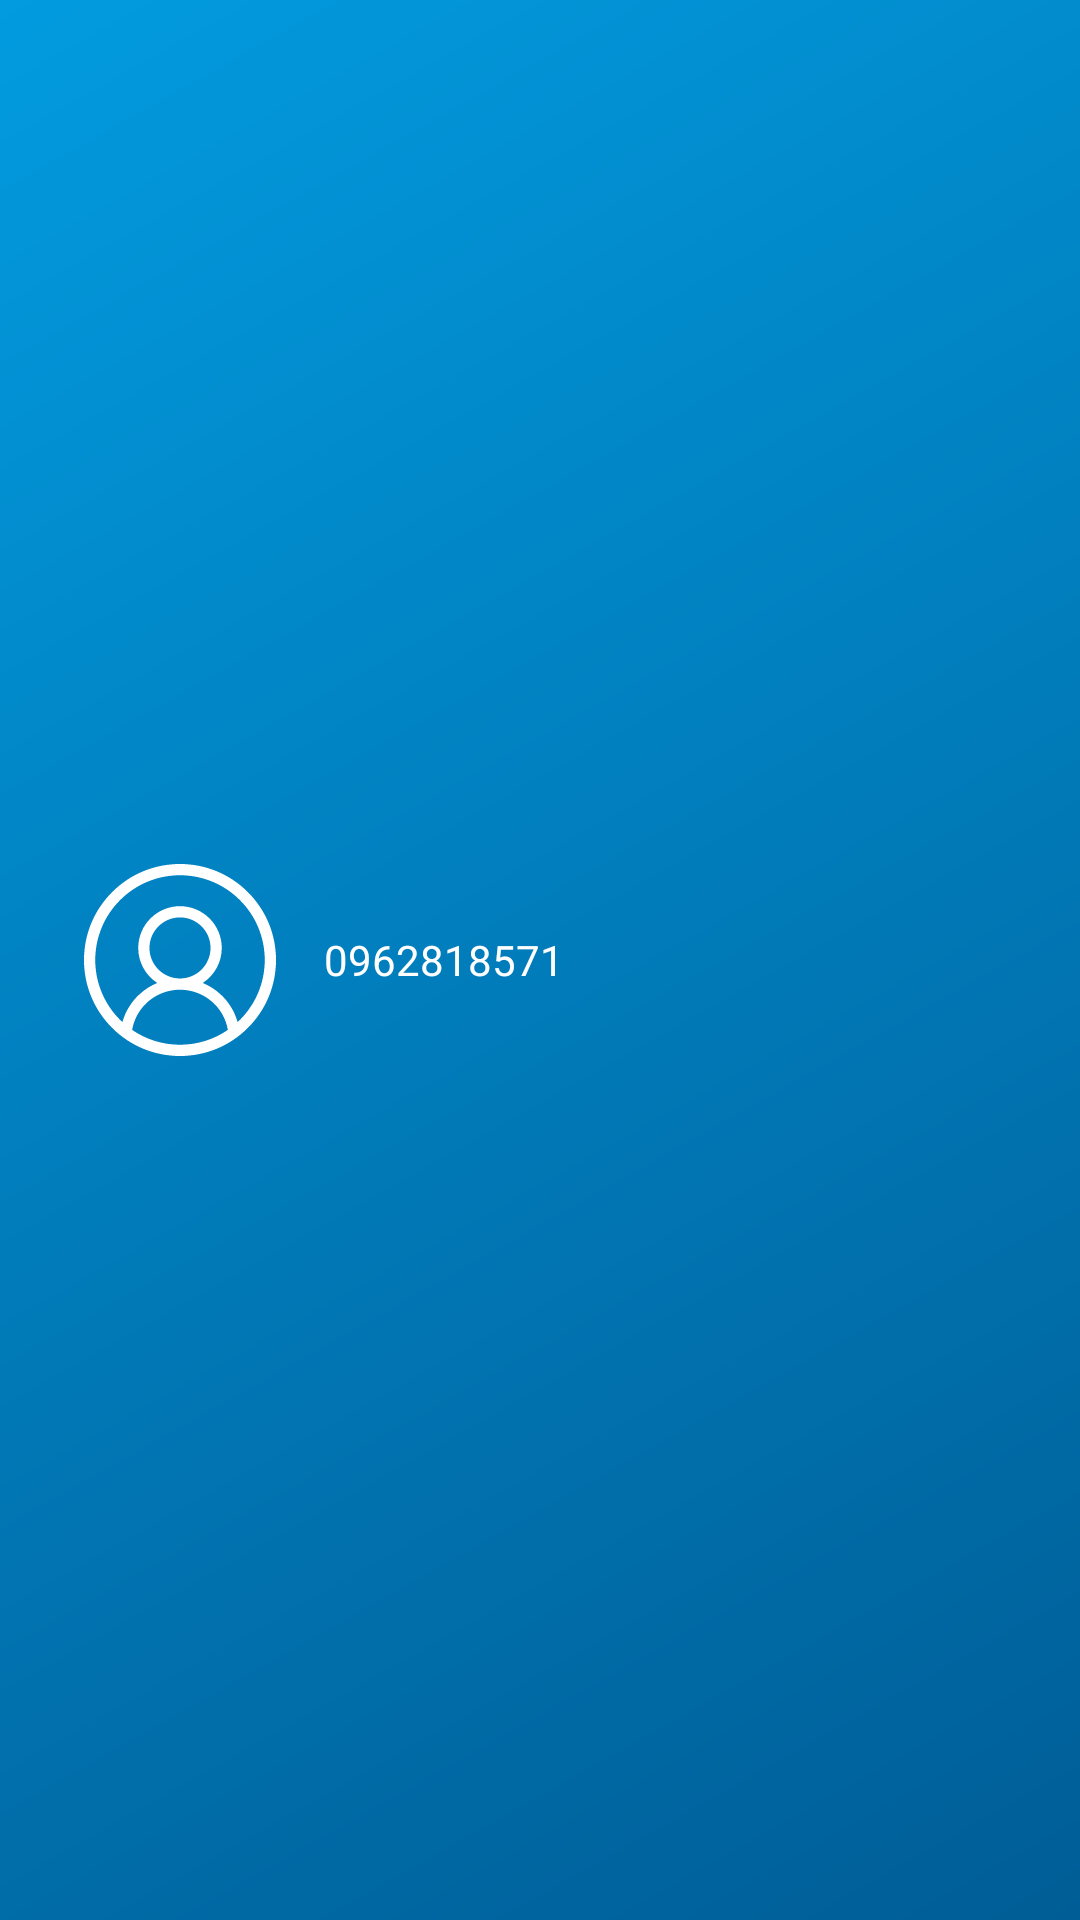

Named icons in this screenshot (1080 × 1920) and their centers, (x,y):
user: (180,960)
